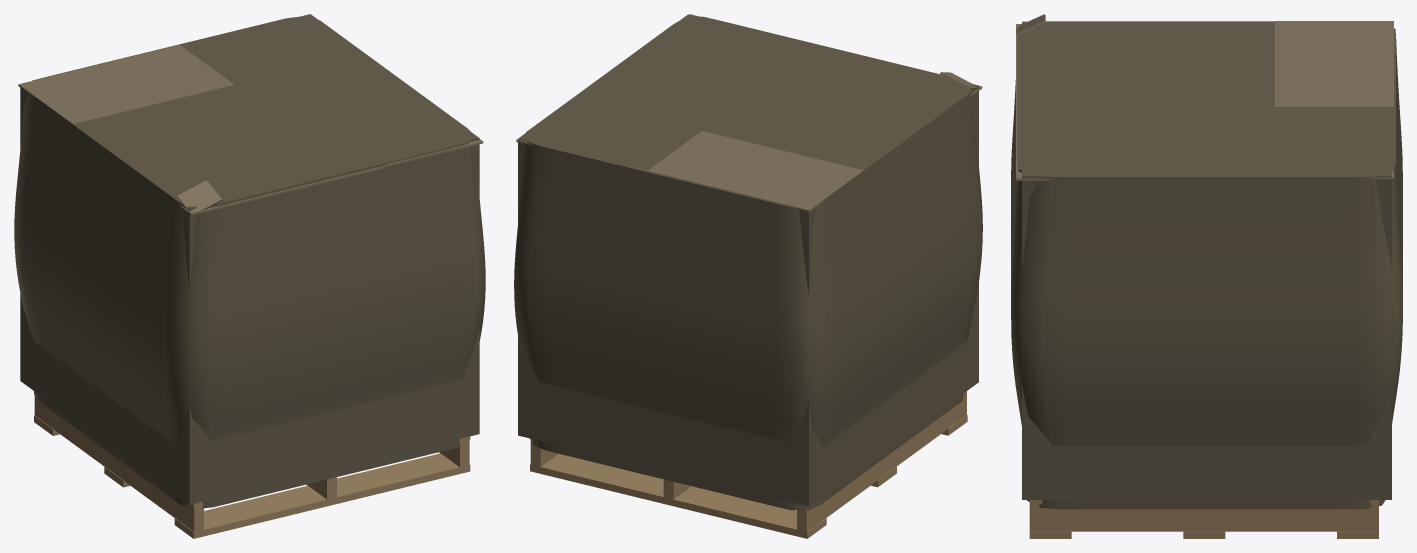
File: wrapped-pallet.glb
3 renders of one model, left to right at view 1: azimuth 30°, elevation 25°; view 2: azimuth 150°, elevation 25°; view 3: azimuth 270°, elevation 25°, orthographic. The views are drawn at different scales.
Visible parts, largest first — view 1: wrapped_pallet; view 2: wrapped_pallet; view 3: wrapped_pallet.
Boxes of the visible parts, bbox=[...] form: wrapped_pallet: bbox=[14, 14, 485, 538]; wrapped_pallet: bbox=[514, 14, 982, 538]; wrapped_pallet: bbox=[1011, 14, 1402, 538].
Size of the model in its own units: 1 by 1.08 by 1.01.
